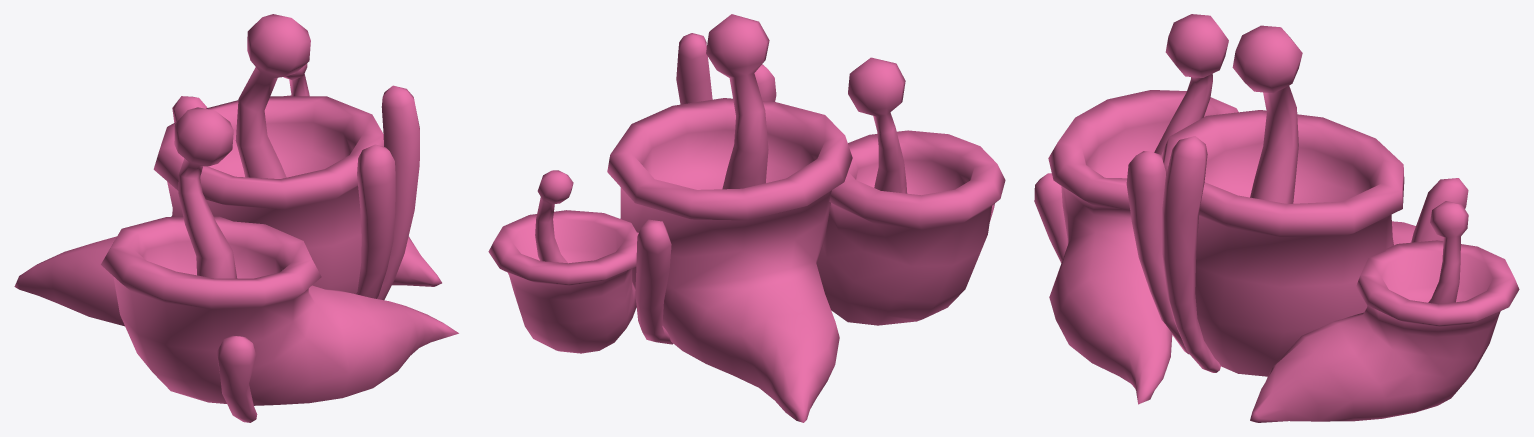
The model's file is plant_2.fbx.
3 renders of one model, left to right at view 1: azimuth 30°, elevation 25°; view 2: azimuth 150°, elevation 25°; view 3: azimuth 270°, elevation 25°, orthographic. The views are drawn at different scales.
Visible parts, largest first — view 1: plant_2; view 2: plant_2; view 3: plant_2.
Part boxes in pixels (left/top/right/bottom): plant_2: left=14, top=14, right=458, bottom=422; plant_2: left=488, top=14, right=1005, bottom=422; plant_2: left=1034, top=14, right=1519, bottom=422.
Bounding box in the file's own units: 104 × 82.95 × 111.
